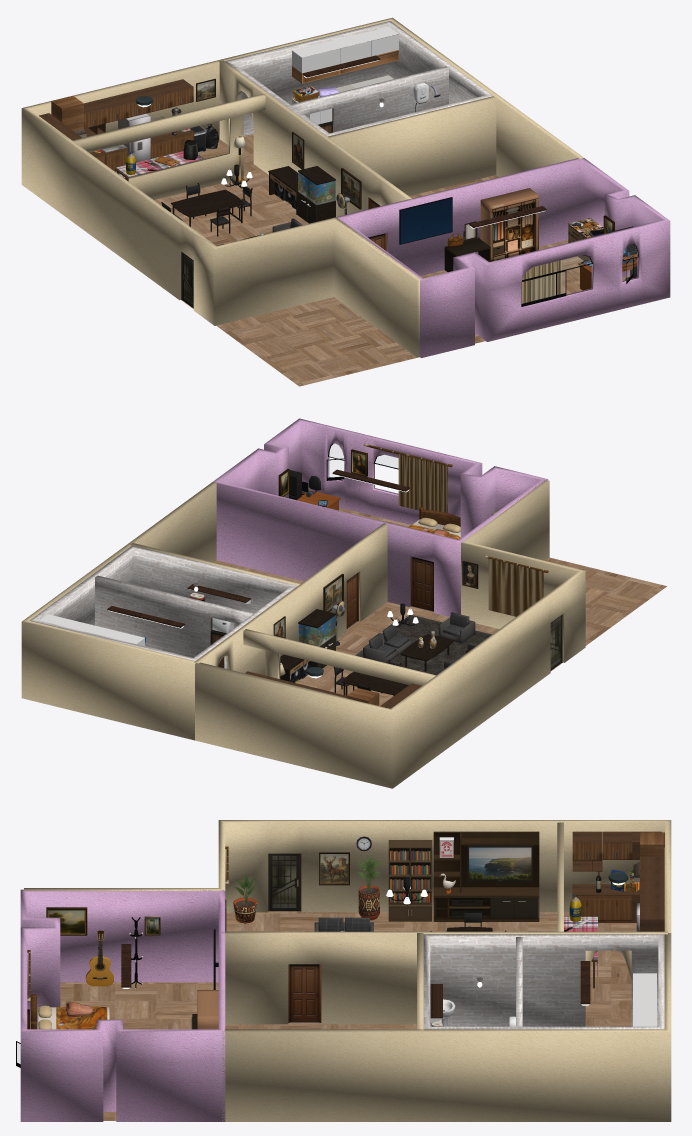
3 views of the same model, one above another, from view 1: azimuth 30°, elevation 25°; view 2: azimuth 150°, elevation 25°; view 3: azimuth 270°, elevation 25° (orthographic). The views are drawn at different scales.
Parts seen in each view (by area): view 1: wall, walls, floor, wall.001, closet, bathcab.002, Cube.019, bathcab.001, curtain, table, ovencabinet, wdw.003 (+11 smaller); view 2: wall, walls, wall.001, floor, curtain.001, curtain, Plane, Plane.001, lilTableXD, couch.002, table, Cube.013 (+4 smaller); view 3: wall, walls, wall.001, floor, Cube.004, libr, Plane.006, Plane.009, Circle.001, cabinet.005, Cube.028, painting (+15 smaller).
Boxes of the visible parts, box(x1,y1,x2,y2) form: wall: box(21, 17, 583, 357); walls: box(335, 158, 670, 357); floor: box(154, 133, 629, 386); wall.001: box(225, 21, 492, 136); closet: box(480, 188, 538, 260); bathcab.002: box(330, 26, 398, 74); Cube.019: box(399, 197, 452, 244); bathcab.001: box(292, 41, 340, 83); curtain: box(521, 260, 562, 303); table: box(170, 189, 244, 226); ovencabinet: box(51, 96, 86, 137); wdw.003: box(521, 273, 556, 306); wall: box(21, 480, 585, 788); walls: box(212, 418, 548, 616); wall.001: box(29, 545, 297, 668); floor: box(214, 507, 666, 706); curtain.001: box(484, 555, 548, 616); curtain: box(363, 443, 452, 512); Plane: box(355, 615, 491, 675); Plane.001: box(412, 557, 433, 611); lilTableXD: box(400, 634, 453, 671); couch.002: box(439, 612, 475, 644); table: box(341, 671, 408, 695); Cube.013: box(298, 615, 335, 646); wall: box(24, 820, 671, 1121); walls: box(20, 889, 225, 1121); wall.001: box(423, 934, 664, 1029); floor: box(30, 911, 636, 1120); Cube.004: box(433, 831, 539, 921); libr: box(388, 840, 432, 921); Plane.006: box(289, 964, 319, 1022); Plane.009: box(270, 853, 299, 911); Circle.001: box(357, 854, 382, 920); cabinet.005: box(602, 884, 631, 922); Cube.028: box(319, 852, 349, 885); painting: box(46, 907, 87, 935).
Size of the model in its own units: 15.6 by 3.13 by 20.1.
17 materials, 15 textured.
